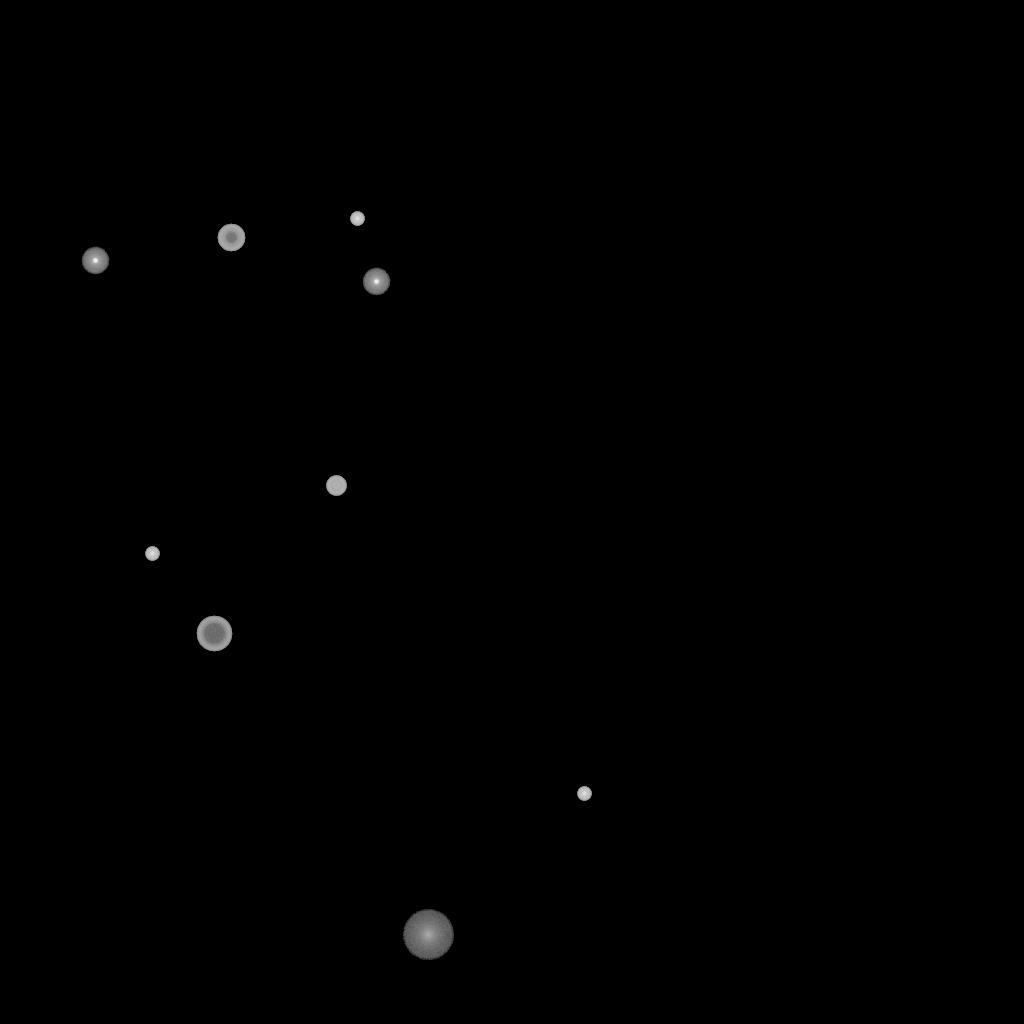depth:-10: (362, 268, 390, 296), (81, 247, 109, 275)
depth:-30: (350, 212, 364, 226), (577, 787, 591, 801), (145, 547, 159, 561)
depth:-40: (326, 476, 346, 496)
depth:-50: (217, 224, 245, 252)
depth:-60: (196, 616, 232, 652)
depth:20: (402, 910, 454, 960)
